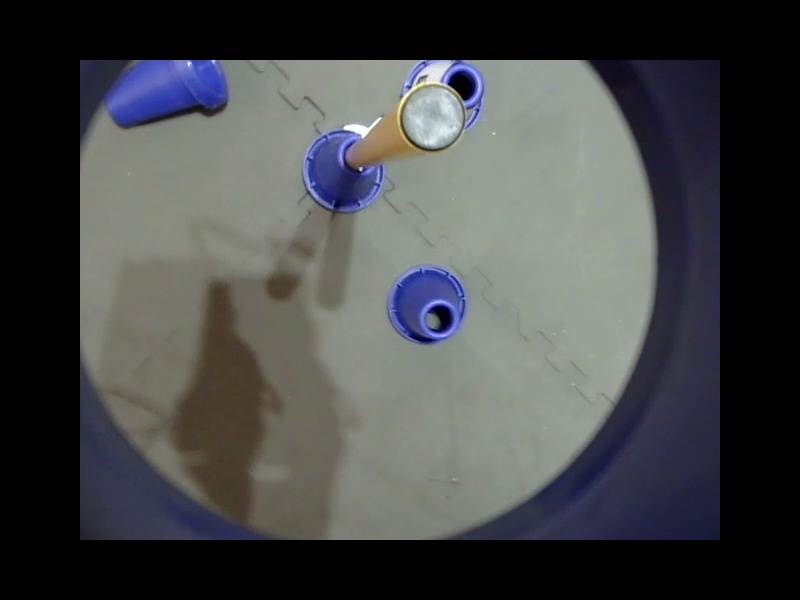tip: (388, 82, 468, 156)
